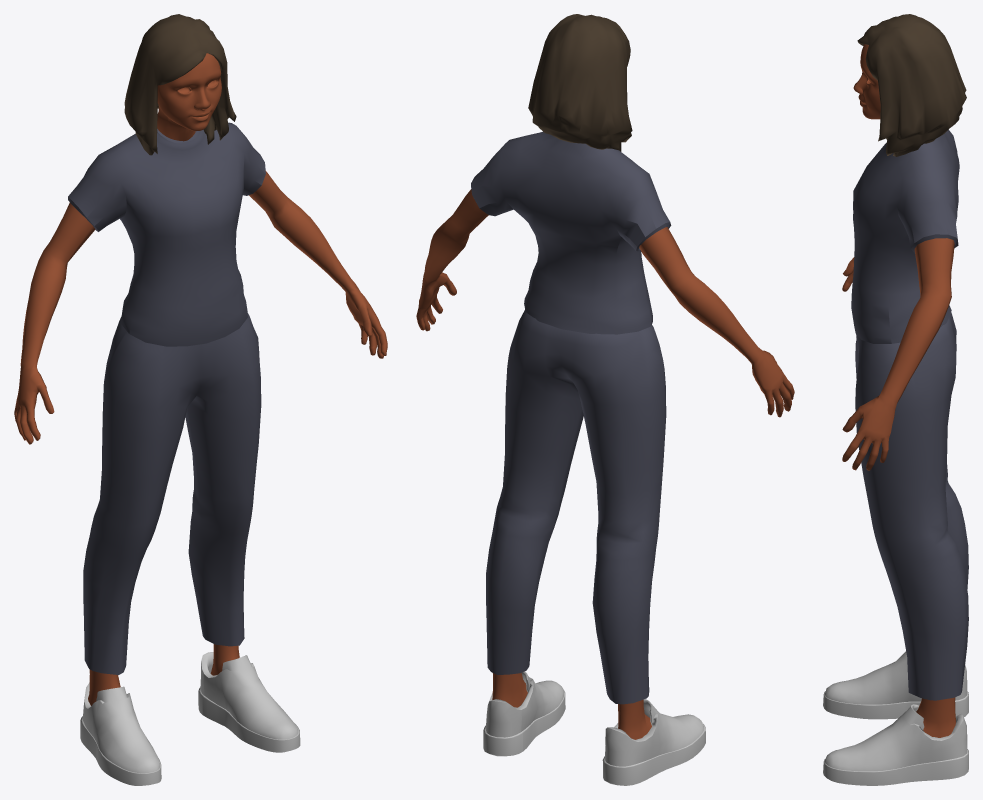
File: woman3.glb
The picture shows the model from 3 angles, left to right: view 1: azimuth 30°, elevation 25°; view 2: azimuth 150°, elevation 25°; view 3: azimuth 270°, elevation 25°; orthographic projection.
Visible parts, largest first — view 1: Wolf3D_Outfit_Bottom, Wolf3D_Outfit_Top, Wolf3D_Outfit_Footwear, Wolf3D_Body.001, Wolf3D_Hair, Wolf3D_Head, Wolf3D_Body; view 2: Wolf3D_Outfit_Bottom, Wolf3D_Outfit_Top, Wolf3D_Hair, Wolf3D_Body.001, Wolf3D_Outfit_Footwear, Wolf3D_Body; view 3: Wolf3D_Outfit_Bottom, Wolf3D_Outfit_Top, Wolf3D_Outfit_Footwear, Wolf3D_Hair, Wolf3D_Body.001, Wolf3D_Body, Wolf3D_Head.
Boxes of the visible parts, bbox=[...] form: Wolf3D_Outfit_Bottom: bbox=[83, 313, 261, 674]; Wolf3D_Outfit_Top: bbox=[68, 122, 265, 346]; Wolf3D_Outfit_Footwear: bbox=[80, 652, 300, 785]; Wolf3D_Body.001: bbox=[14, 171, 387, 444]; Wolf3D_Hair: bbox=[124, 14, 236, 155]; Wolf3D_Head: bbox=[157, 53, 221, 141]; Wolf3D_Body: bbox=[88, 644, 239, 705]; Wolf3D_Outfit_Bottom: bbox=[486, 309, 666, 704]; Wolf3D_Outfit_Top: bbox=[471, 132, 671, 334]; Wolf3D_Hair: bbox=[528, 14, 632, 151]; Wolf3D_Body.001: bbox=[416, 189, 794, 417]; Wolf3D_Outfit_Footwear: bbox=[483, 671, 705, 785]; Wolf3D_Body: bbox=[492, 673, 651, 739]; Wolf3D_Outfit_Bottom: bbox=[855, 312, 968, 700]; Wolf3D_Outfit_Top: bbox=[851, 129, 959, 343]; Wolf3D_Outfit_Footwear: bbox=[823, 651, 968, 785]; Wolf3D_Hair: bbox=[857, 14, 966, 156]; Wolf3D_Body.001: bbox=[842, 238, 954, 470]; Wolf3D_Body: bbox=[916, 697, 955, 737]; Wolf3D_Head: bbox=[853, 44, 880, 119].
Bounding box in the file's own units: 9.48 × 18.02 × 3.3.
Materials: 4 (1 with a texture image).
